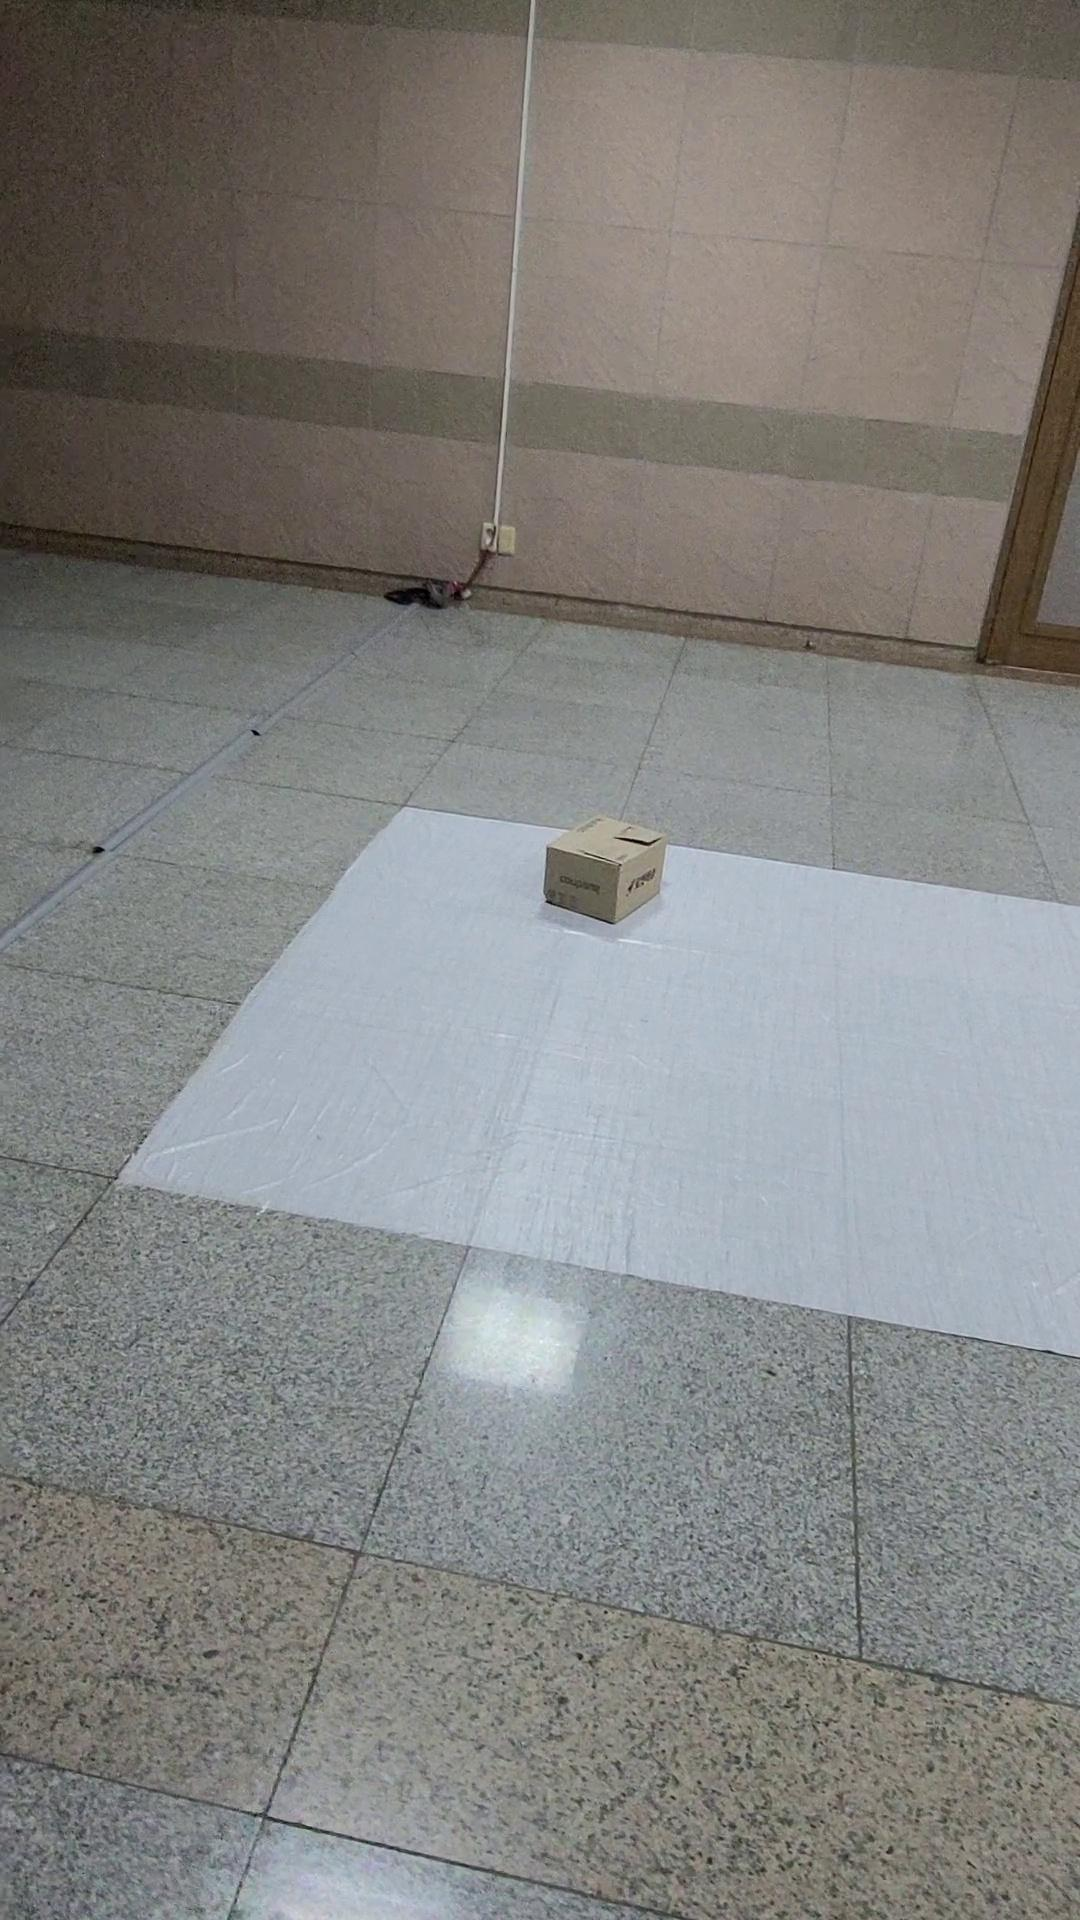Box: (501, 790, 715, 945)
